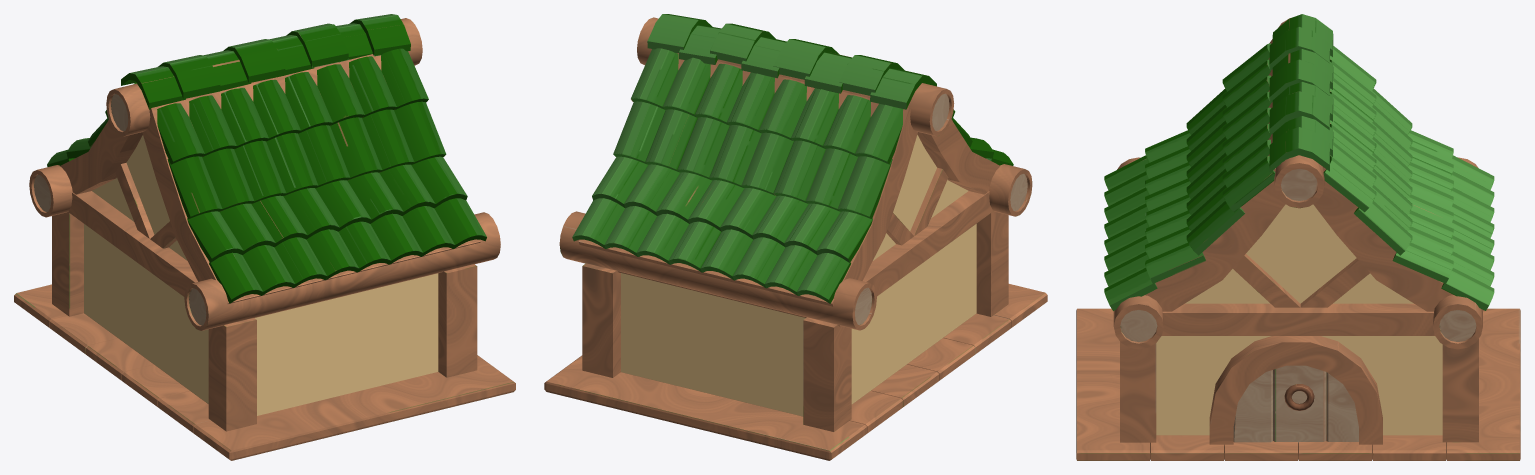
The model's file is cottagehouse.fbx.
3 views of the same model, side by side, from view 1: azimuth 30°, elevation 25°; view 2: azimuth 150°, elevation 25°; view 3: azimuth 270°, elevation 25° (orthographic). The views are drawn at different scales.
Parts seen in each view (by area): view 1: house; view 2: house; view 3: house.
Boxes of the visible parts, x1,y1,x2,y2 form: house: [14, 14, 515, 460]; house: [544, 14, 1047, 460]; house: [1076, 14, 1520, 460].
Bounding box in the file's own units: 807 × 811 × 1034.
Materials: 1 (1 with a texture image).
